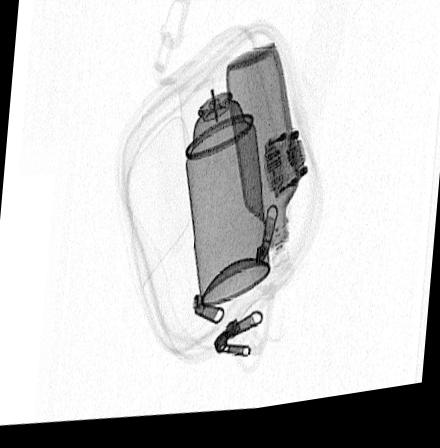Sprayer: (174, 60, 271, 316)
